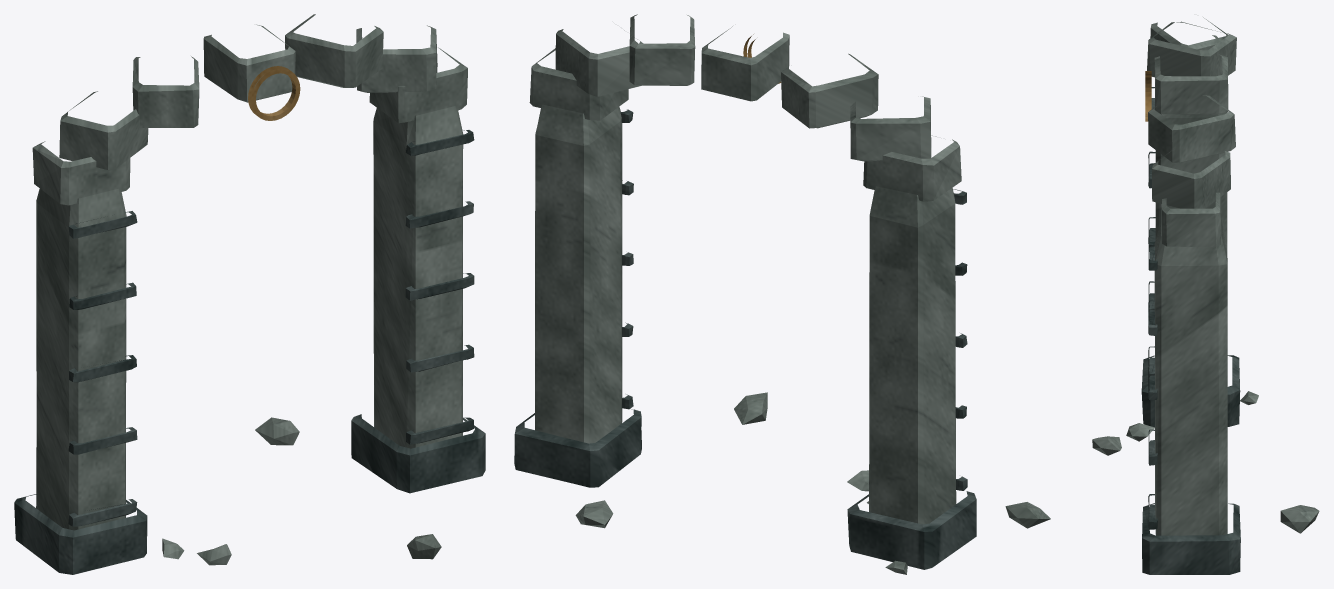
File: 0319_archway_19.glb
3 renders of one model, left to right at view 1: azimuth 30°, elevation 25°; view 2: azimuth 150°, elevation 25°; view 3: azimuth 270°, elevation 25°, orthographic. The views are drawn at different scales.
Visible parts, largest first — view 1: stone, stone_dark, brass; view 2: stone, stone_dark; view 3: stone, stone_dark.
Boxes of the visible parts, x1,y1,x2,y2 form: stone: [32, 14, 467, 565]; stone_dark: [14, 130, 485, 574]; brass: [248, 66, 300, 120]; stone: [529, 14, 961, 574]; stone_dark: [514, 109, 976, 569]; stone: [1005, 17, 1319, 535]; stone_dark: [1141, 87, 1240, 574].
Size of the model in its own units: 3.82 by 4.04 by 2.72.
Materials: 3 (3 with a texture image).
